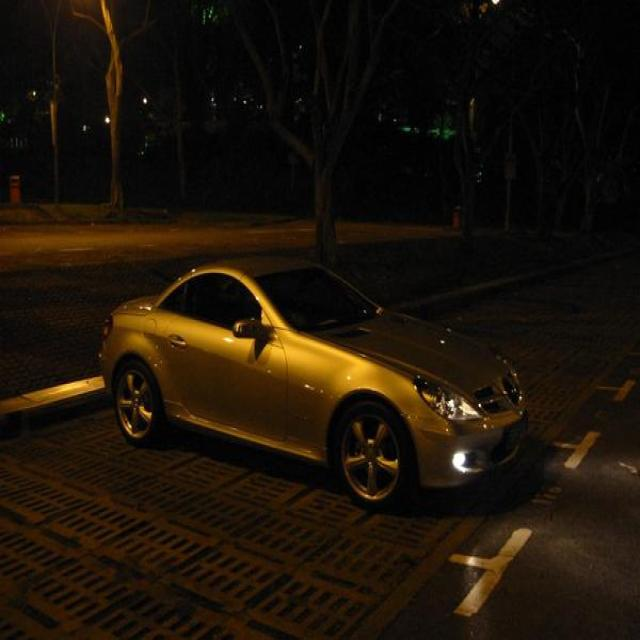Car: (127, 227, 539, 552)
